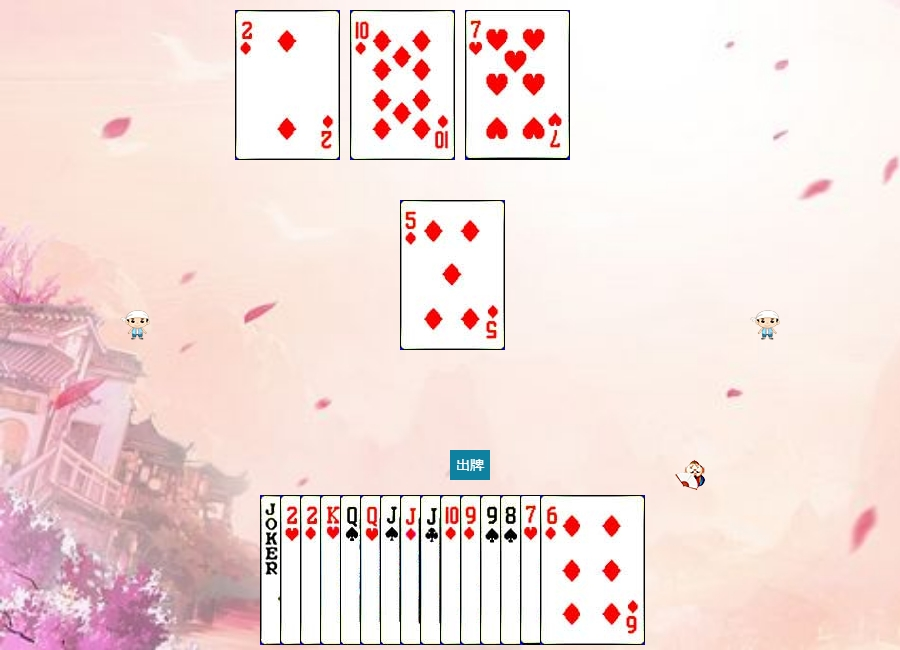10~1: (350, 10, 455, 160), (440, 495, 545, 645)
11~1: (400, 495, 505, 645)
11~2: (420, 495, 525, 645)
11~4: (380, 495, 485, 645)
12~3: (360, 495, 465, 645)
12~4: (340, 495, 445, 645)
13~3: (320, 495, 425, 645)
15~1: (235, 10, 340, 160), (300, 495, 405, 645)
15~3: (280, 495, 385, 645)
17~3: (260, 495, 365, 645)
5~1: (400, 200, 505, 350)
6~1: (540, 495, 645, 645)
7~3: (465, 10, 570, 160), (520, 495, 625, 645)
8~4: (500, 495, 605, 645)
9~1: (460, 495, 565, 645)
9~4: (480, 495, 585, 645)
